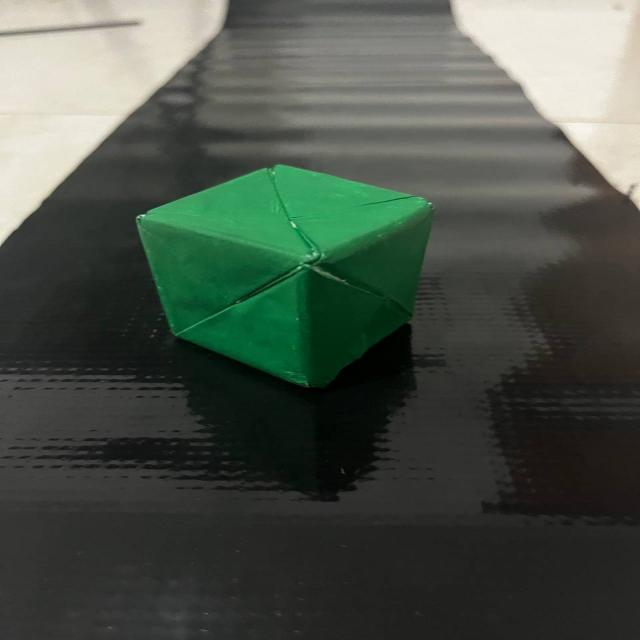Verde: (117, 153, 466, 400)
